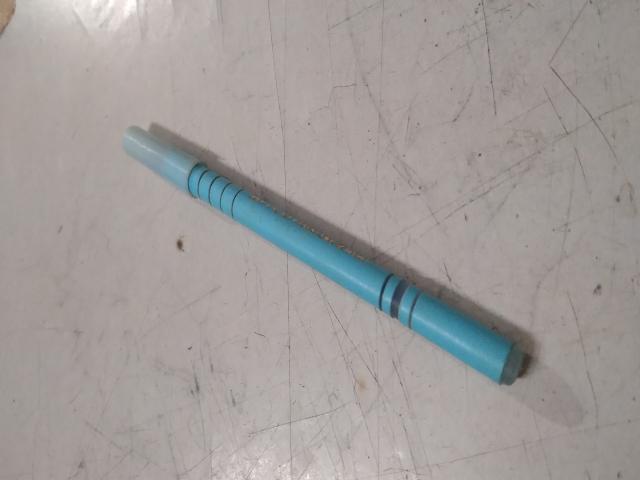PEN: (74, 142, 262, 480)
